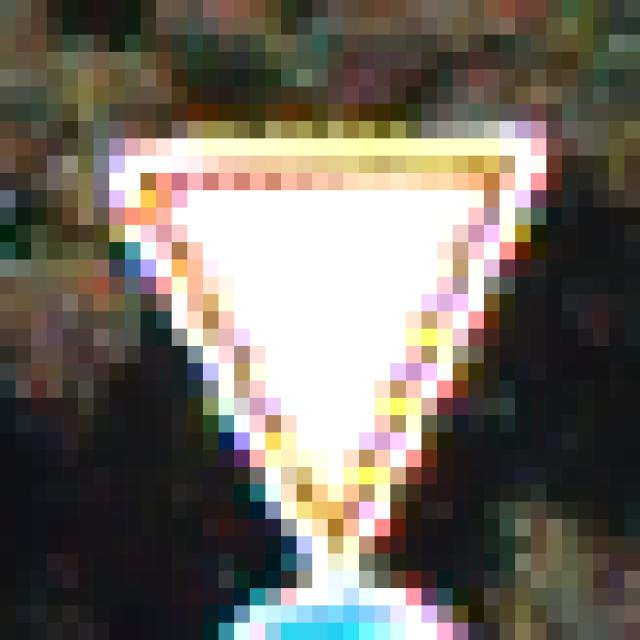Give Way: (79, 88, 563, 555)
